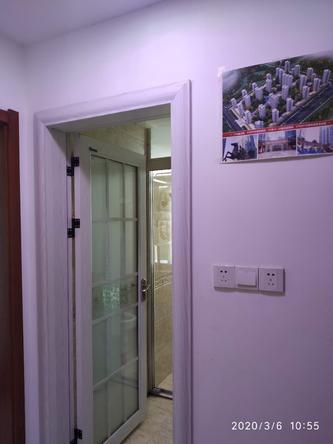switch: (234, 266, 258, 290)
